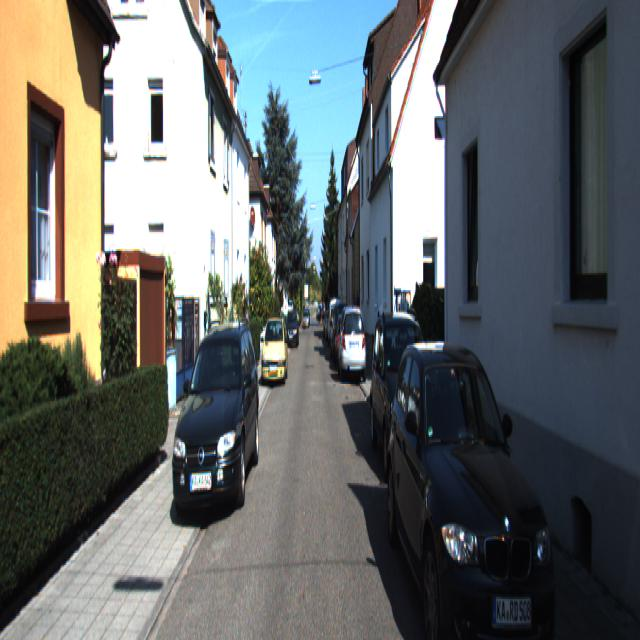Car: (384, 334, 569, 638), (170, 322, 260, 544), (369, 312, 442, 495), (338, 303, 368, 385), (260, 316, 286, 392)
